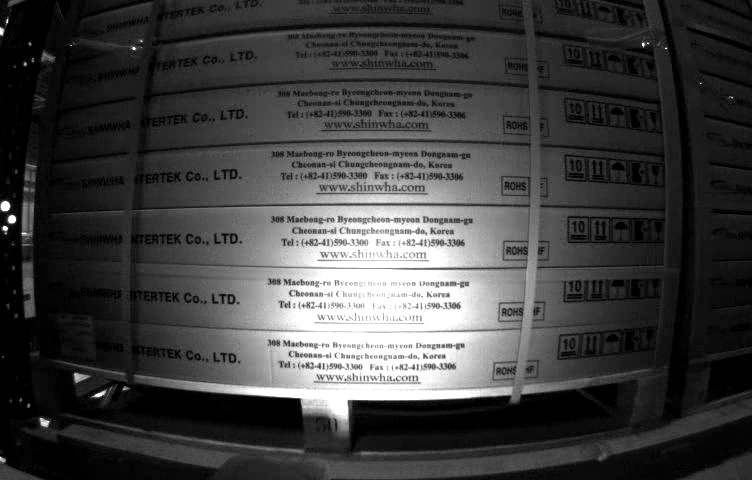True Barcode: (56, 313, 93, 361)
